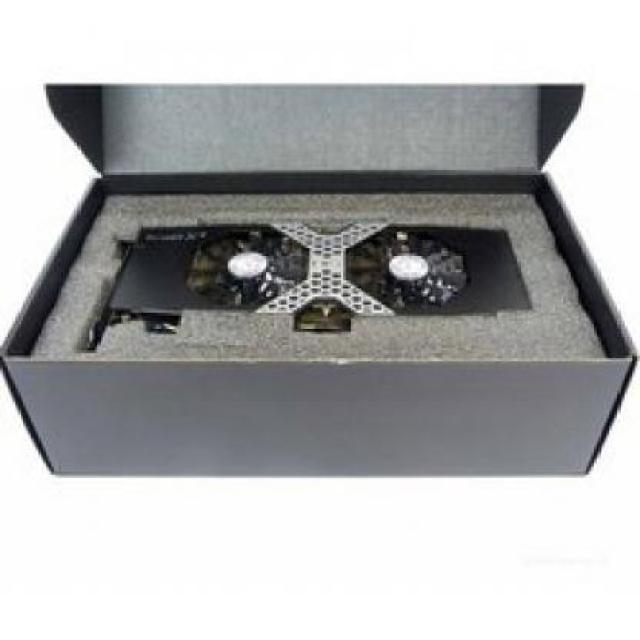box: (1, 53, 638, 516)
